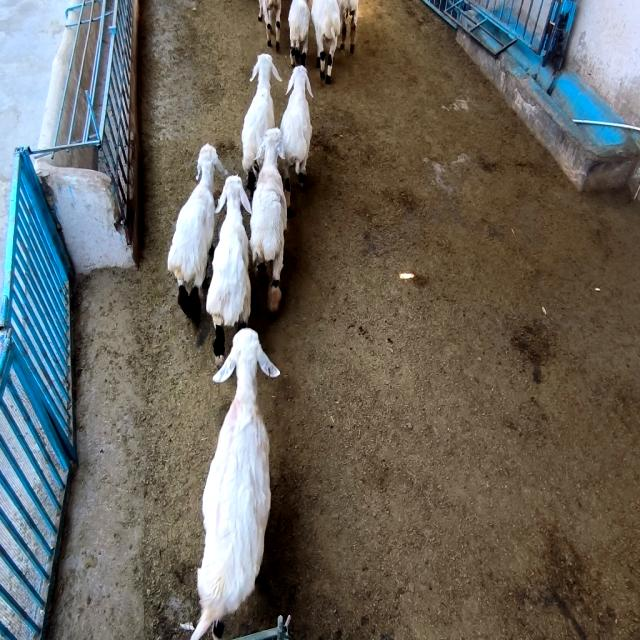sheep: (191, 328, 280, 639), (168, 143, 228, 329), (206, 175, 251, 364), (250, 128, 286, 318), (241, 53, 281, 192), (280, 65, 312, 214), (311, 0, 341, 82), (289, 0, 310, 66), (338, 0, 359, 52)
